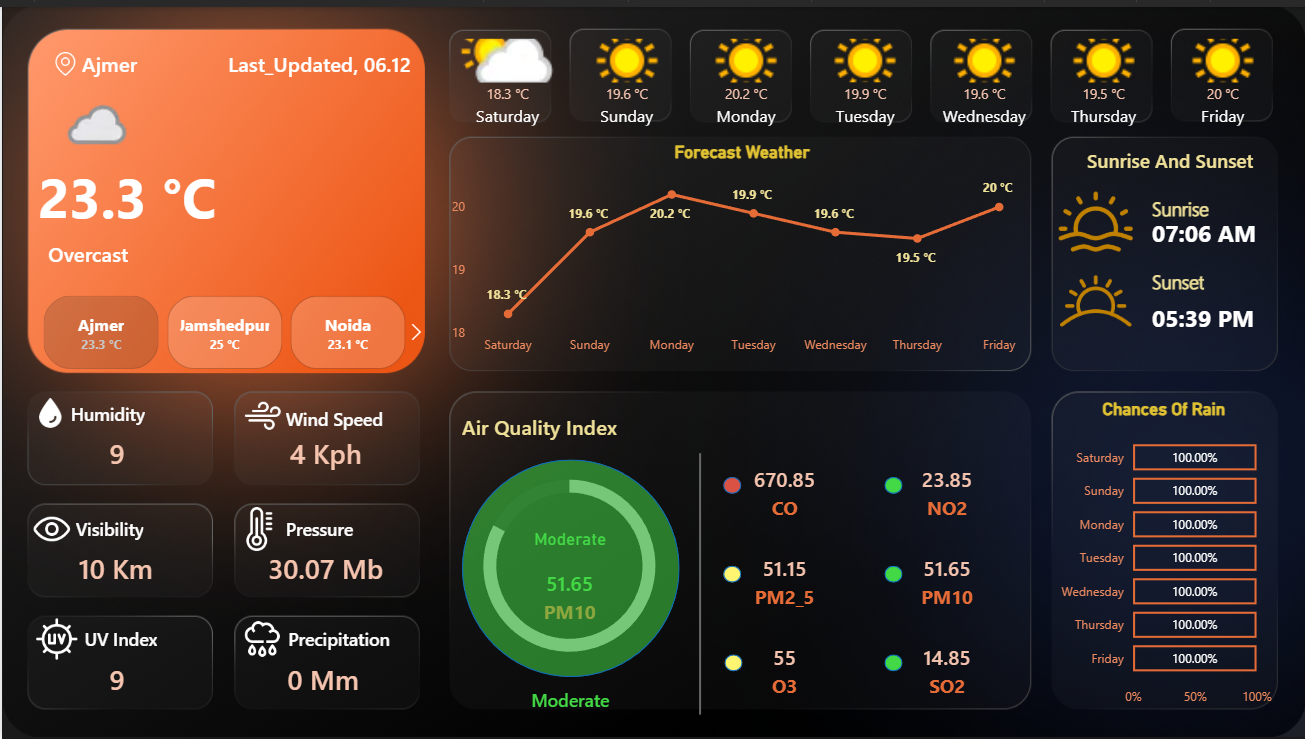

The page's visual inventory and layout, read from the dashboard file:
{"tool":"powerbi","page":{"name":"Page 1","canvas":[1280,720],"ordinal":0},"visuals":[{"type":"advancedSlicerVisual","fields":{"Values":["Locations.location.name"]},"box":[16,278,406,82],"z":0},{"type":"shape","box":[35.8,150.2,230.3,70.1],"z":1000},{"type":"shape","box":[45.8,220.3,261.8,42.9],"z":2000},{"type":"shape","box":[218.9,34.3,183.1,42.9],"z":3000},{"type":"shape","box":[78.7,34.3,140.2,42.9],"z":4000},{"type":"image","box":[47.2,44.3,31.5,22.9],"z":5000},{"type":"cardVisual","fields":{"Data":["Min(CURRENT_DATA.current.condition.icon)"]},"box":[35.8,44.3,115.9,143],"z":6000},{"type":"image","box":[24.3,490.7,48.6,42.9],"z":7000},{"type":"shape","box":[73,490.7,141.6,42.9],"z":8000},{"type":"image","box":[233.2,383.4,45.8,37.2],"z":9000},{"type":"image","box":[231.7,599.4,47.2,42.9],"z":10000},{"type":"image","box":[28.6,599.4,51.5,42.9],"z":11000},{"type":"image","box":[28.6,383.4,38.6,31.5],"z":12000},{"type":"shape","box":[81.5,599.4,94.4,42.9],"z":13000},{"type":"shape","box":[280.4,599.4,141.6,42.9],"z":14000},{"type":"shape","box":[278.9,490.7,141.6,42.9],"z":15000},{"type":"shape","box":[278.9,383.4,141.6,42.9],"z":16000},{"type":"shape","box":[67.2,377.6,141.6,42.9],"z":17000},{"type":"image","box":[227.4,490.7,51.5,42.9],"z":18000},{"type":"cardVisual","fields":{"Data":["Sum(CURRENT_DATA.current.humidity)"]},"box":[15.7,399.1,194.5,74.4],"z":19000},{"type":"cardVisual","fields":{"Data":["Sum(CURRENT_DATA.current.humidity)"]},"box":[15.7,620.8,194.5,74.4],"z":20000},{"type":"cardVisual","fields":{"Data":["_Measures.Precipitation"]},"box":[218.9,620.8,194.5,74.4],"z":21000},{"type":"cardVisual","fields":{"Data":["_Measures.Visibilty"]},"box":[14.3,512.1,194.5,74.4],"z":22000},{"type":"cardVisual","fields":{"Data":["_Measures.Pressure"]},"box":[220.3,512.1,194.5,74.4],"z":23000},{"type":"cardVisual","fields":{"Data":["_Measures.Wind_Speed"]},"box":[220.3,399.1,194.5,74.4],"z":24000},{"type":"advancedSlicerVisual","fields":{"Values":["FORCAST_BY_DAY.Day_Name"]},"box":[436.3,24.3,826.8,110.1],"z":25000},{"type":"lineChart","title":"Forecast Weather","fields":{"Y":["Sum(FORCAST_BY_DAY.forecast.forecastday.day.avgtemp_c)"],"Category":["FORCAST_BY_DAY.Day_Name"]},"box":[436.3,133,579.3,217.4],"z":26000},{"type":"shape","box":[1064.9,128.7,169.3,43.4],"z":27000},{"type":"shape","box":[1128.5,197.8,105.7,47.4],"z":28000},{"type":"shape","box":[1128.5,279.1,121.9,52.8],"z":29000},{"type":"shape","box":[1128.5,174.8,105.7,47.4],"z":30000},{"type":"shape","box":[1128.5,245.2,105.7,47.4],"z":31000},{"type":"image","box":[1020.2,241.2,108.4,93.5],"z":32000},{"type":"image","box":[1020.2,174.8,108.4,73.2],"z":33000},{"type":"hundredPercentStackedBarChart","title":"Chances Of Rain","fields":{"Y":["Sum(FORCAST_BY_DAY.forecast.forecastday.day.daily_chance_of_rain)","CURRENT_DATA.Left_value_Rain"],"Category":["FORCAST_BY_DAY.Day_Name"]},"box":[1028.9,384.4,222.2,311.1],"z":34000},{"type":"cardVisual","fields":{"Data":["Sum(CURRENT_DATA.current.air_quality.no2)"]},"box":[865.7,433.5,123.9,87.2],"z":34001},{"type":"cardVisual","fields":{"Data":["Sum(CURRENT_DATA.current.air_quality.so2)"]},"box":[865.7,607.9,123.9,87.2],"z":34002},{"type":"cardVisual","fields":{"Data":["Sum(CURRENT_DATA.current.air_quality.pm10)"]},"box":[865.7,520.7,123.9,87.2],"z":34003},{"type":"cardVisual","fields":{"Data":["Sum(CURRENT_DATA.current.air_quality.o3)"]},"box":[706.5,607.9,123.9,87.2],"z":34004},{"type":"cardVisual","fields":{"Data":["Sum(CURRENT_DATA.current.air_quality.pm2_5)"]},"box":[706.5,520.7,123.9,87.2],"z":34005},{"type":"cardVisual","fields":{"Data":["Sum(CURRENT_DATA.current.air_quality.co)"]},"box":[706.5,433.5,123.9,87.2],"z":34006},{"type":"shape","box":[451.2,382.9,165.6,58.1],"z":34007},{"type":"shape","box":[707.7,461.3,17.7,16.4],"z":34008},{"type":"shape","box":[707.7,548.5,17.7,16.4],"z":34009},{"type":"shape","box":[865.7,461.3,17.7,16.4],"z":34010},{"type":"shape","box":[865.7,635.7,17.7,16.4],"z":34011},{"type":"shape","box":[709,635.7,17.7,16.4],"z":34012},{"type":"shape","box":[865.7,548.5,17.7,16.4],"z":34013},{"type":"shape","box":[602.8,438.5,165.6,256.6],"z":34014},{"type":"cardVisual","fields":{"Data":["Sum(CURRENT_DATA.current.air_quality.pm10)"]},"box":[490.4,511.8,134,115],"z":34015},{"type":"donutChart","fields":{"Y":["_Measures.LEFT_VALUE_PH10","Sum(CURRENT_DATA.current.air_quality.pm10)"]},"box":[385.5,438.5,343.8,221.2],"z":34016},{"type":"shape","box":[451.2,443.6,213.6,213.6],"z":34017},{"type":"shape","box":[444.9,652.1,225,58.1],"z":34018}]}

Visuals, with their boxes in screenshot pixels (x1, y1, x2, y2), scaled from the page's 1280x720 canvas onto the 1305x739 screenshot:
advancedSlicerVisual - Locations.location.name: crop(16, 285, 430, 369)
shape: crop(36, 154, 271, 226)
shape: crop(47, 226, 314, 270)
shape: crop(223, 35, 410, 79)
shape: crop(80, 35, 223, 79)
image: crop(48, 45, 80, 69)
cardVisual - Min(CURRENT_DATA.current.condition.icon): crop(36, 45, 155, 192)
image: crop(25, 504, 74, 548)
shape: crop(74, 504, 219, 548)
image: crop(238, 394, 284, 432)
image: crop(236, 615, 284, 659)
image: crop(29, 615, 82, 659)
image: crop(29, 394, 69, 426)
shape: crop(83, 615, 179, 659)
shape: crop(286, 615, 430, 659)
shape: crop(284, 504, 429, 548)
shape: crop(284, 394, 429, 438)
shape: crop(69, 388, 213, 432)
image: crop(232, 504, 284, 548)
cardVisual - Sum(CURRENT_DATA.current.humidity): crop(16, 410, 214, 486)
cardVisual - Sum(CURRENT_DATA.current.humidity): crop(16, 637, 214, 714)
cardVisual - _Measures.Precipitation: crop(223, 637, 421, 714)
cardVisual - _Measures.Visibilty: crop(15, 526, 213, 602)
cardVisual - _Measures.Pressure: crop(225, 526, 423, 602)
cardVisual - _Measures.Wind_Speed: crop(225, 410, 423, 486)
advancedSlicerVisual - FORCAST_BY_DAY.Day_Name: crop(445, 25, 1288, 138)
"Forecast Weather" lineChart: crop(445, 137, 1035, 360)
shape: crop(1086, 132, 1258, 177)
shape: crop(1151, 203, 1258, 252)
shape: crop(1151, 286, 1275, 341)
shape: crop(1151, 179, 1258, 228)
shape: crop(1151, 252, 1258, 300)
image: crop(1040, 248, 1151, 344)
image: crop(1040, 179, 1151, 255)
"Chances Of Rain" hundredPercentStackedBarChart: crop(1049, 395, 1276, 714)
cardVisual - Sum(CURRENT_DATA.current.air_quality.no2): crop(883, 445, 1009, 534)
cardVisual - Sum(CURRENT_DATA.current.air_quality.so2): crop(883, 624, 1009, 713)
cardVisual - Sum(CURRENT_DATA.current.air_quality.pm10): crop(883, 534, 1009, 624)
cardVisual - Sum(CURRENT_DATA.current.air_quality.o3): crop(720, 624, 847, 713)
cardVisual - Sum(CURRENT_DATA.current.air_quality.pm2_5): crop(720, 534, 847, 624)
cardVisual - Sum(CURRENT_DATA.current.air_quality.co): crop(720, 445, 847, 534)
shape: crop(460, 393, 629, 453)
shape: crop(722, 473, 740, 490)
shape: crop(722, 563, 740, 580)
shape: crop(883, 473, 901, 490)
shape: crop(883, 652, 901, 669)
shape: crop(723, 652, 741, 669)
shape: crop(883, 563, 901, 580)
shape: crop(615, 450, 783, 713)
cardVisual - Sum(CURRENT_DATA.current.air_quality.pm10): crop(500, 525, 637, 643)
donutChart - _Measures.LEFT_VALUE_PH10 x Sum(CURRENT_DATA.current.air_quality.pm10): crop(393, 450, 744, 677)
shape: crop(460, 455, 678, 675)
shape: crop(454, 669, 683, 729)
